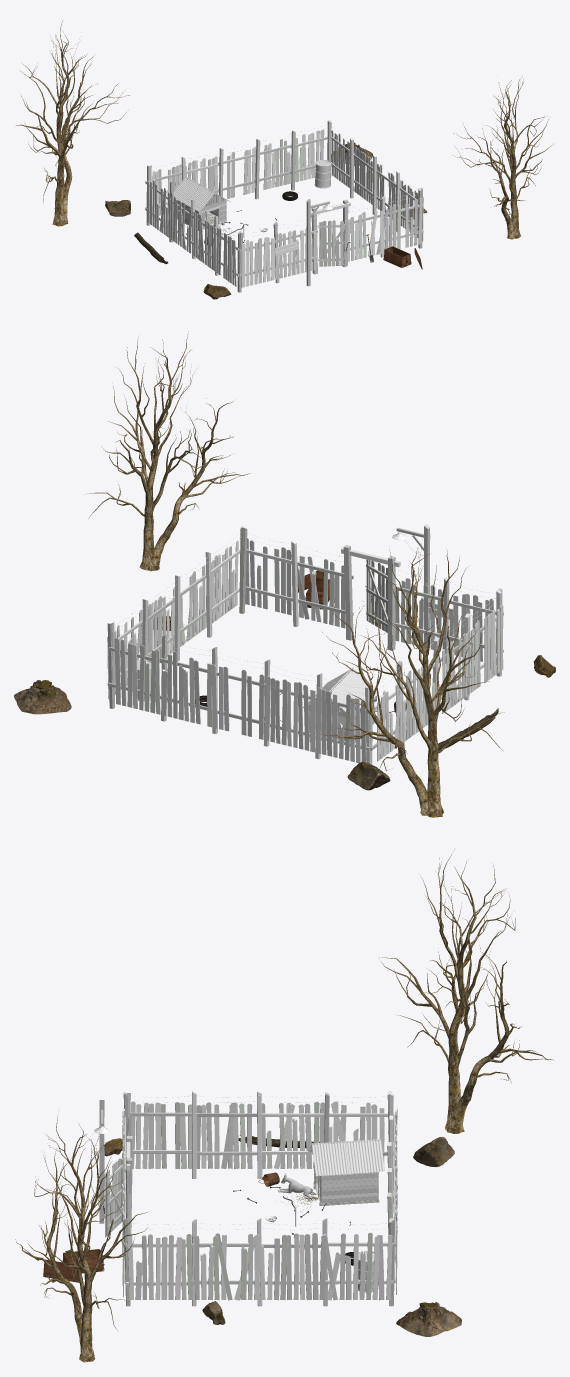
File: DogPen.fbx
3 renders of one model, top to bottom at view 1: azimuth 30°, elevation 25°; view 2: azimuth 150°, elevation 25°; view 3: azimuth 270°, elevation 25°, orthographic. The views are drawn at different scales.
Parts seen in each view (by area): view 1: Pen2_Fence, Prop_DryTree_0, Prop_DryTree_1, Pen2_Gate, Pen2_KennelRoof, Pen2_Kennel, Pen2_LampPost, Prop_Barrel, Prop_Crate, Prop_MossRock_2; view 2: Pen2_Fence, Prop_DryTree_0, Prop_DryTree_1, Prop_TreeStump, Pen2_Gate, Pen2_KennelRoof, Prop_MossRock_2, Pen2_LampPost; view 3: Pen2_Fence, Prop_DryTree_0, Prop_DryTree_1, Pen2_KennelRoof, Pen2_Kennel, Prop_TreeStump, Pen2_Gate, Prop_MossRock_2, Pen2_LampPost.
Part boxes in pixels (x1,y1,x2,y2): Pen2_Fence: [145, 120, 423, 292]; Prop_DryTree_0: [16, 20, 129, 226]; Prop_DryTree_1: [453, 79, 553, 239]; Pen2_Gate: [318, 220, 351, 266]; Pen2_KennelRoof: [173, 176, 230, 211]; Pen2_Kennel: [175, 178, 226, 231]; Pen2_LampPost: [306, 199, 332, 286]; Prop_Barrel: [314, 160, 331, 188]; Prop_Crate: [383, 246, 411, 267]; Prop_MossRock_2: [105, 200, 130, 216]; Pen2_Fence: [107, 526, 503, 764]; Prop_DryTree_0: [319, 539, 504, 817]; Prop_DryTree_1: [85, 331, 250, 571]; Prop_TreeStump: [14, 680, 71, 714]; Pen2_Gate: [365, 559, 387, 632]; Pen2_KennelRoof: [302, 667, 378, 716]; Prop_MossRock_2: [347, 761, 390, 790]; Pen2_LampPost: [392, 524, 430, 648]; Pen2_Fence: [121, 1090, 397, 1306]; Prop_DryTree_0: [381, 849, 552, 1133]; Prop_DryTree_1: [15, 1116, 147, 1362]; Pen2_KennelRoof: [308, 1139, 384, 1175]; Pen2_Kennel: [311, 1138, 379, 1205]; Prop_TreeStump: [396, 1302, 461, 1336]; Pen2_Gate: [102, 1158, 124, 1237]; Prop_MossRock_2: [413, 1136, 454, 1166]; Pen2_LampPost: [94, 1100, 109, 1223].
Bounding box in the file's own units: 18.01 × 8.47 × 14.41.
